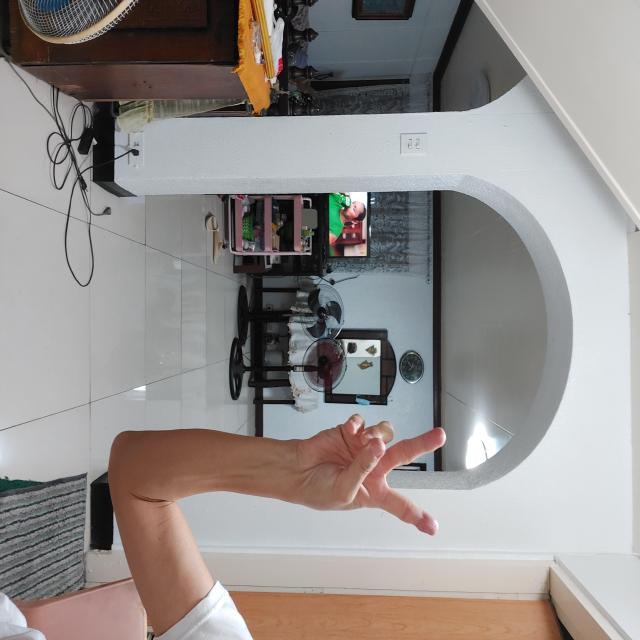V: (413, 193, 536, 344)
